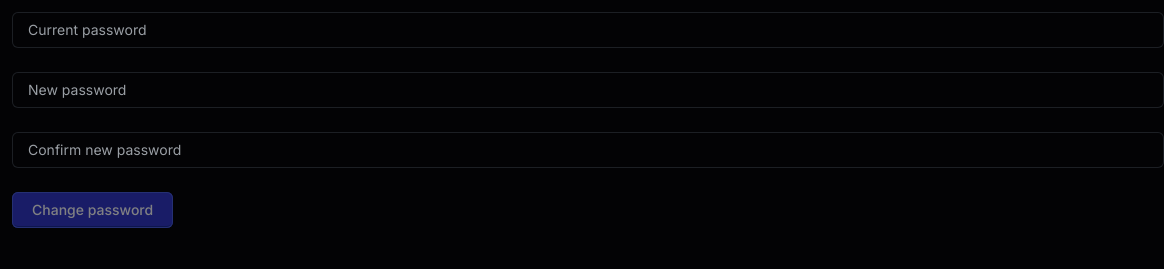
Test: ChangePasswordForm › shows mismatch error when passwords do not match
Type "current1" into the password field labelled "Current password".
click(588, 30); type("current1")  # box [28,12,1148,48]
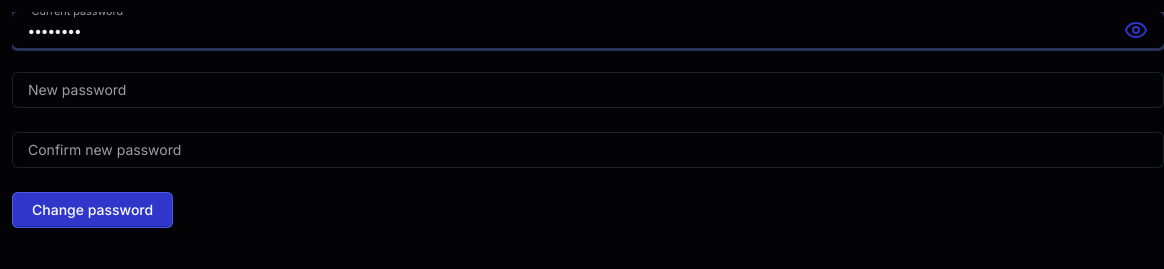
Type "newpassword1" into the password field labelled "New password".
click(588, 90); type("newpassword1")  # box [28,72,1148,108]
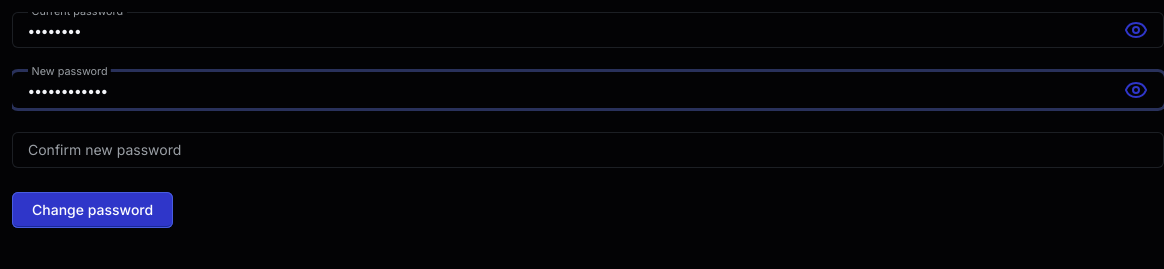
Type "different1234" into the password field labelled "Confirm new password".
click(588, 150); type("different1234")  # box [28,132,1148,168]
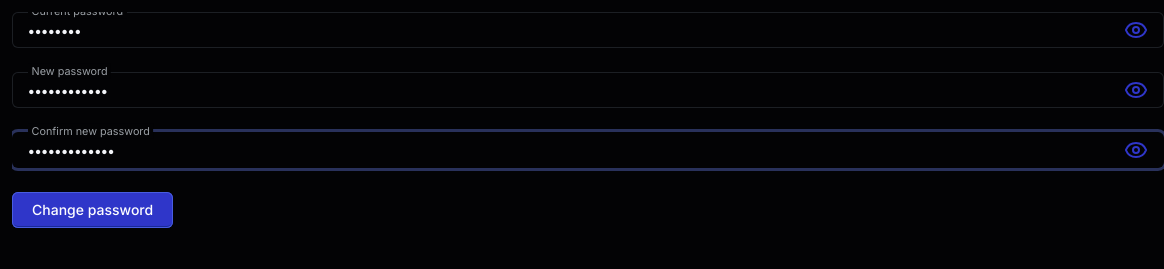
Click the button "Change password".
click(93, 210)  # box [12,192,173,228]
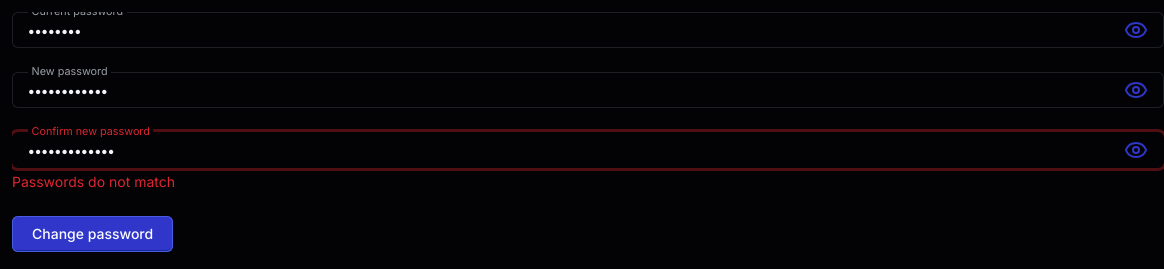
Expected: the text "Passwords do not match" is shown, [12,172,175,192]
